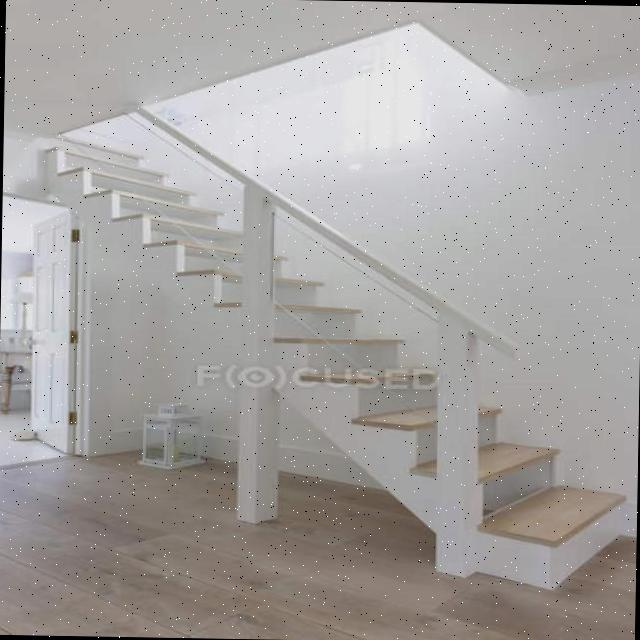stairs: (31, 131, 635, 589)
